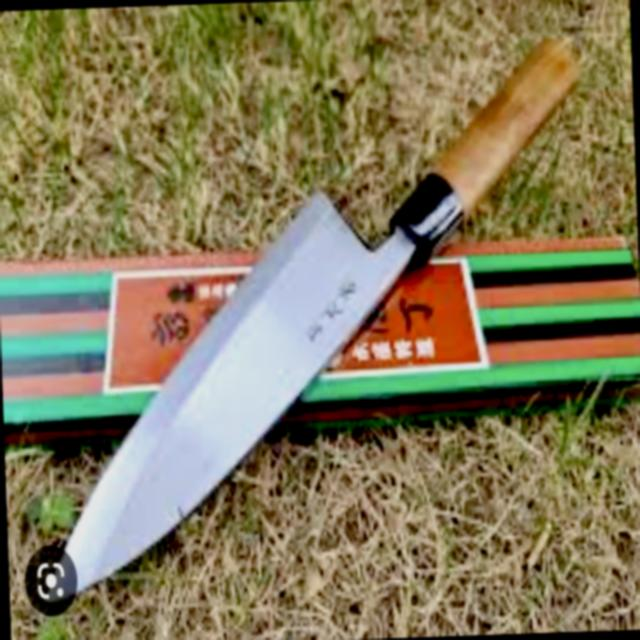knife: (61, 13, 605, 617)
